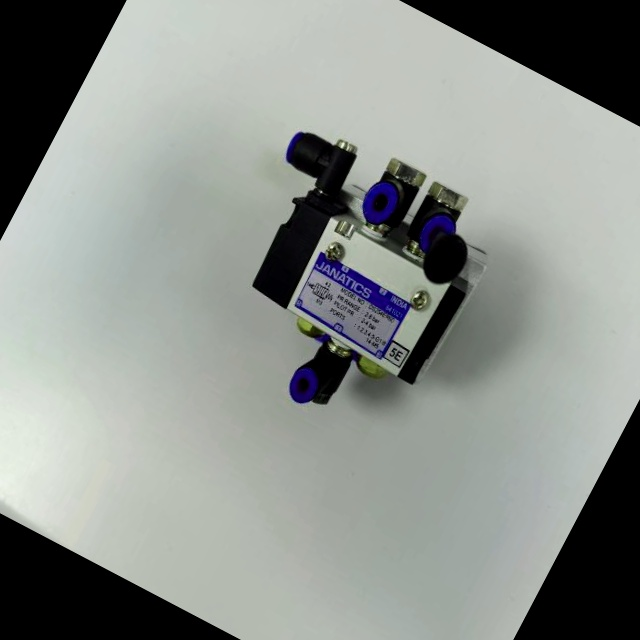5by2 DCV: (171, 87, 531, 466)
